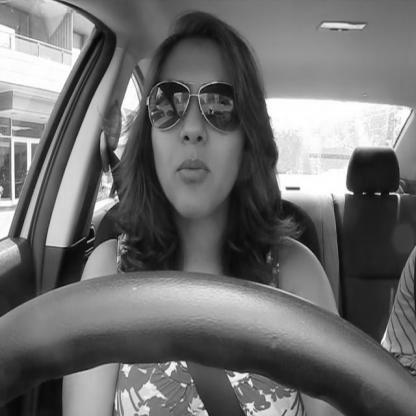seatbelt: (98, 1, 285, 416)
